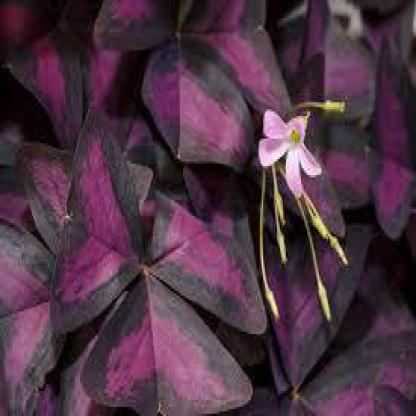Kupu-Kupu: (52, 126, 263, 415), (114, 1, 257, 113)
